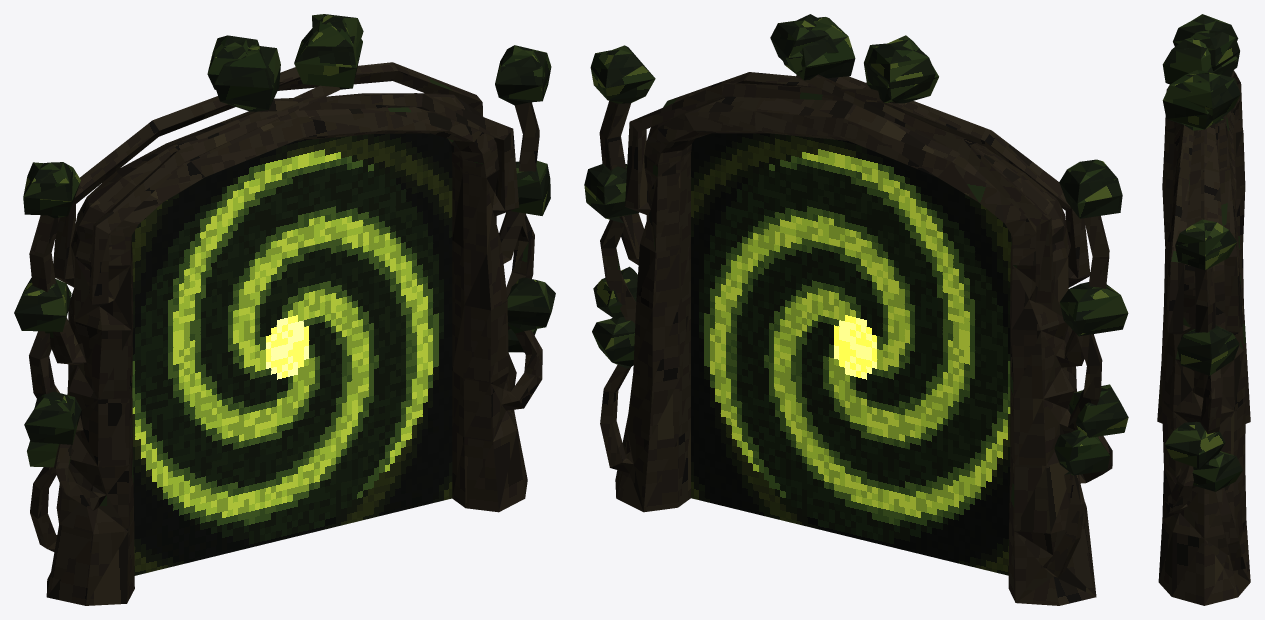
Rendered from forest_portal.glb.
The picture shows the model from 3 angles, left to right: view 1: azimuth 30°, elevation 25°; view 2: azimuth 150°, elevation 25°; view 3: azimuth 270°, elevation 25°; orthographic projection. The views are drawn at different scales.
Visible parts, largest first — view 1: ForestPortal; view 2: ForestPortal; view 3: ForestPortal.
Boxes of the visible parts, left/top/right/bottom form: ForestPortal: left=14, top=14, right=555, bottom=605; ForestPortal: left=584, top=14, right=1128, bottom=605; ForestPortal: left=1157, top=14, right=1250, bottom=605.
Size of what is drawn, in the model's own units: 4.41 by 3.97 by 0.7488.
1 material, 1 textured.
